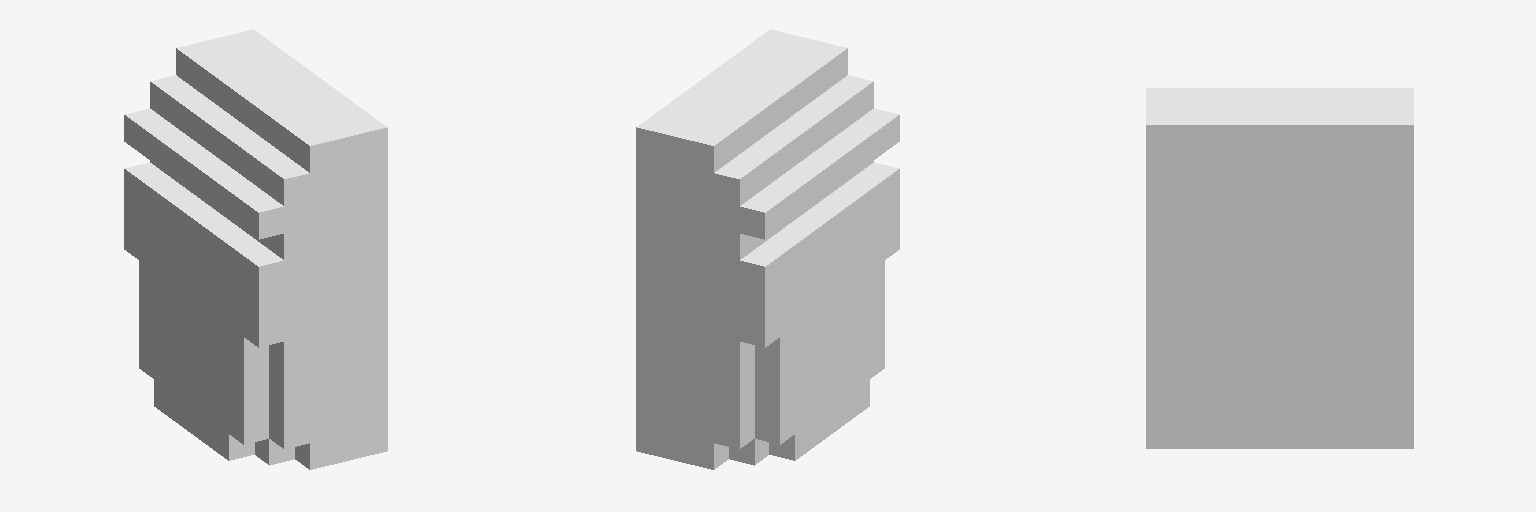
Rendered from apt-trash-bin.obj.
3 views of the same model, side by side, from view 1: azimuth 30°, elevation 25°; view 2: azimuth 150°, elevation 25°; view 3: azimuth 270°, elevation 25° (orthographic).
Parts seen in each view (by area): view 1: apt:trash-bin; view 2: apt:trash-bin; view 3: apt:trash-bin.
Part boxes in pixels (left/top/right/bottom): apt:trash-bin: left=124, top=29, right=387, bottom=469; apt:trash-bin: left=636, top=29, right=899, bottom=469; apt:trash-bin: left=1146, top=88, right=1413, bottom=448.
Size of the model in its own units: 5 by 12 by 9.